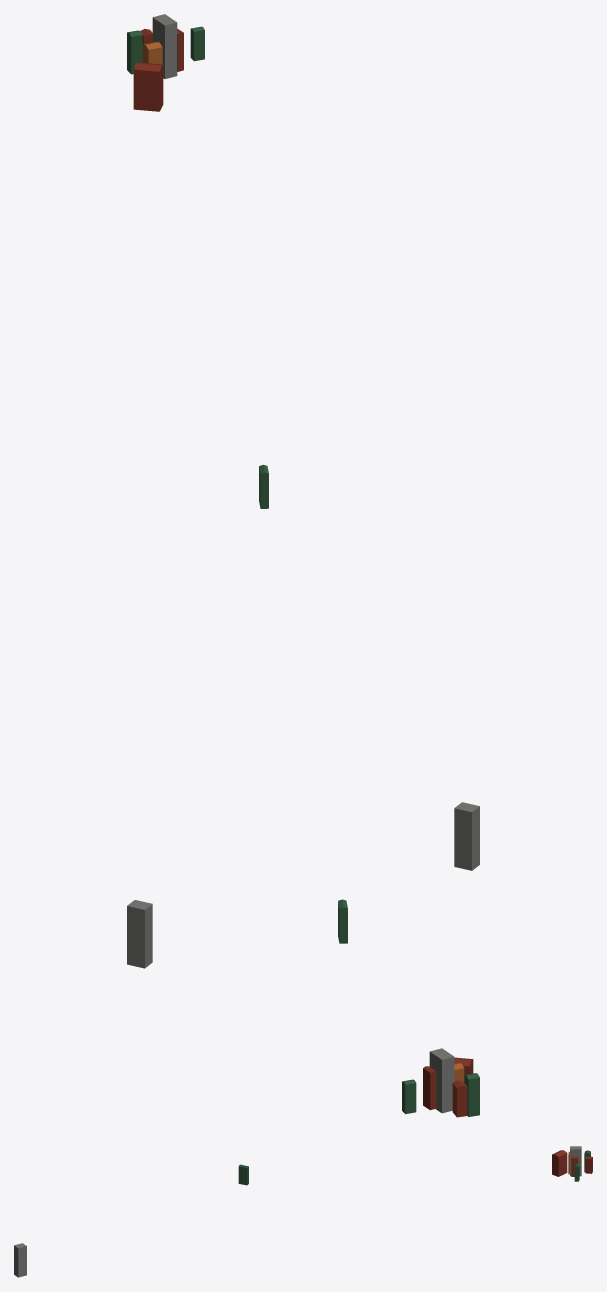
The model's file is near-15-27355-14864.b87bb79e.glb.
3 renders of one model, top to bottom at view 1: azimuth 30°, elevation 25°; view 2: azimuth 210°, elevation 25°; view 3: azimuth 270°, elevation 25°, orthographic. The views are drawn at different scales.
Size of the model in its own units: 136 by 162 by 449.
